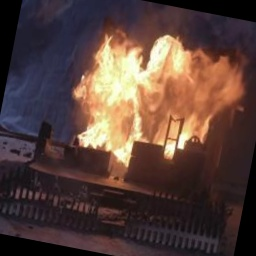fire: (56, 10, 253, 184)
